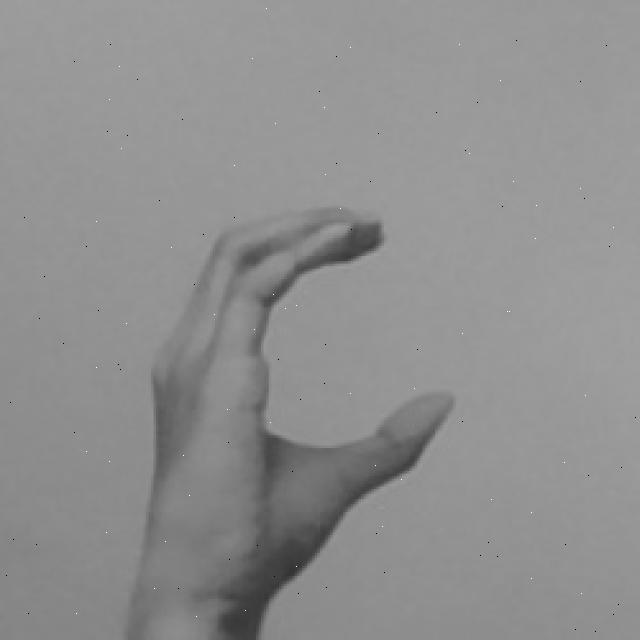C: (136, 205, 458, 640)
